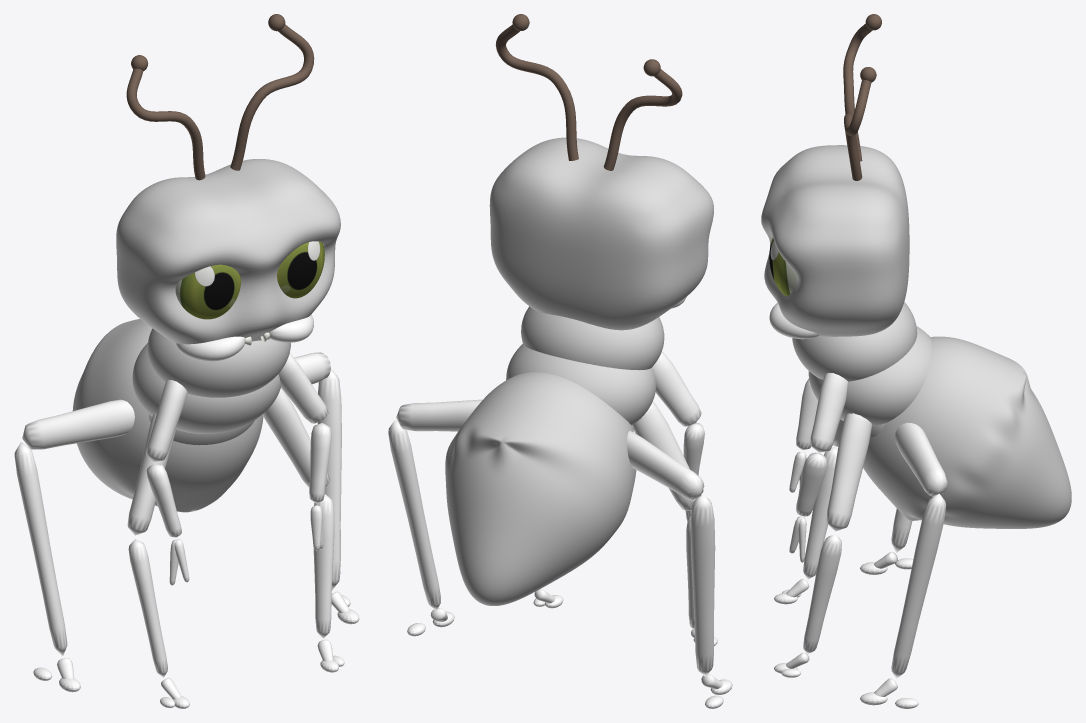
The model's file is worker_ant.glb.
The picture shows the model from 3 angles, left to right: view 1: azimuth 30°, elevation 25°; view 2: azimuth 150°, elevation 25°; view 3: azimuth 270°, elevation 25°; orthographic projection. The views are drawn at different scales.
Parts seen in each view (by area): view 1: Head, Gaster, Thorax_Pronotum, Thorax_Mesonotum, Leg_Hind_Tibia_L, Leg_Hind_Femur_L, Eye_L, Leg_Hind_Tibia_R, Leg_Mid_Femur_R, Leg_Mid_Tibia_L, Leg_Mid_Tibia_R, Antenna_R (+11 smaller); view 2: Head, Gaster, Thorax_Pronotum, Thorax_Mesonotum, Leg_Hind_Tibia_L, Leg_Hind_Tibia_R, Leg_Hind_Femur_L, Leg_Hind_Femur_R, Antenna_R, Arm_Upper_L, Leg_Mid_Femur_L, Antenna_L (+2 smaller); view 3: Gaster, Head, Thorax_Pronotum, Thorax_Mesonotum, Leg_Hind_Tibia_R, Leg_Mid_Femur_R, Leg_Hind_Femur_R, Leg_Mid_Tibia_R, Arm_Upper_R, Leg_Mid_Tibia_L, Arm_Forearm_R, Antenna_R (+5 smaller).
Part boxes in pixels (x1=…): Head: x1=116, y1=159, x2=340, y2=344; Gaster: x1=72, y1=319, x2=263, y2=512; Thorax_Pronotum: x1=147, y1=328, x2=290, y2=397; Thorax_Mesonotum: x1=132, y1=343, x2=280, y2=433; Leg_Hind_Tibia_L: x1=14, y1=442, x2=67, y2=655; Leg_Hind_Femur_L: x1=22, y1=399, x2=134, y2=449; Eye_L: x1=175, y1=264, x2=240, y2=319; Leg_Hind_Tibia_R: x1=317, y1=369, x2=341, y2=590; Leg_Mid_Femur_R: x1=262, y1=388, x2=329, y2=487; Leg_Mid_Tibia_L: x1=128, y1=539, x2=167, y2=677; Leg_Mid_Tibia_R: x1=313, y1=494, x2=334, y2=638; Antenna_R: x1=230, y1=24, x2=314, y2=170; Head: x1=489, y1=137, x2=713, y2=330; Gaster: x1=445, y1=372, x2=636, y2=605; Thorax_Pronotum: x1=521, y1=306, x2=664, y2=370; Thorax_Mesonotum: x1=506, y1=344, x2=656, y2=425; Leg_Hind_Tibia_L: x1=690, y1=495, x2=715, y2=676; Leg_Hind_Tibia_R: x1=388, y1=420, x2=440, y2=610; Leg_Hind_Femur_L: x1=627, y1=430, x2=704, y2=499; Leg_Hind_Femur_R: x1=396, y1=399, x2=482, y2=431; Antenna_R: x1=495, y1=24, x2=578, y2=160; Arm_Upper_L: x1=652, y1=351, x2=701, y2=426; Leg_Mid_Femur_L: x1=633, y1=401, x2=701, y2=510; Antenna_L: x1=603, y1=69, x2=682, y2=170; Gaster: x1=863, y1=336, x2=1071, y2=528; Head: x1=761, y1=145, x2=909, y2=336; Thorax_Pronotum: x1=792, y1=302, x2=917, y2=381; Thorax_Mesonotum: x1=808, y1=326, x2=932, y2=425; Leg_Hind_Tibia_R: x1=891, y1=493, x2=946, y2=678; Leg_Mid_Femur_R: x1=826, y1=413, x2=872, y2=531; Leg_Hind_Femur_R: x1=895, y1=422, x2=947, y2=496; Leg_Mid_Tibia_R: x1=803, y1=534, x2=841, y2=654; Arm_Upper_R: x1=810, y1=373, x2=847, y2=452; Leg_Mid_Tibia_L: x1=803, y1=446, x2=837, y2=579; Arm_Forearm_R: x1=796, y1=452, x2=827, y2=516; Antenna_R: x1=844, y1=79, x2=871, y2=180.
Size of the model in its own units: 1.3 by 2.41 by 1.13.
Materials: 6 (1 with a texture image).
